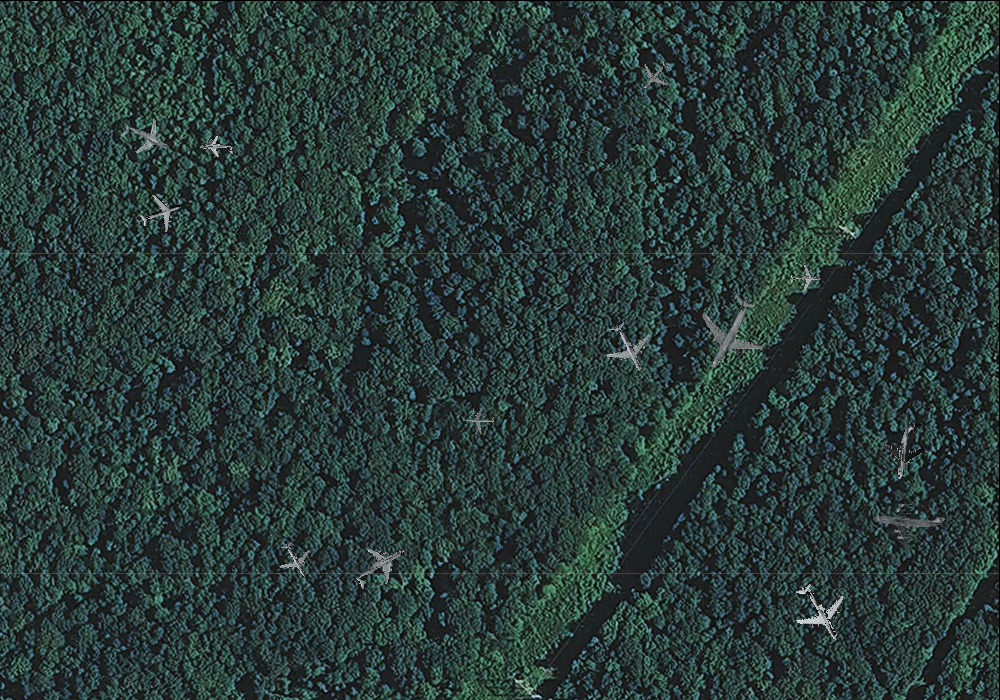plane: (678, 281, 781, 385), (778, 571, 861, 655), (869, 481, 950, 557), (343, 532, 417, 602), (594, 313, 662, 382), (113, 106, 179, 170), (877, 418, 935, 483), (134, 186, 188, 239), (270, 535, 319, 585), (632, 52, 678, 99), (198, 132, 233, 162), (789, 263, 822, 294), (465, 406, 495, 434)
